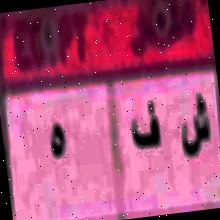5: (43, 113, 71, 164)
faa: (124, 100, 164, 156)
sheen: (174, 81, 218, 168)
